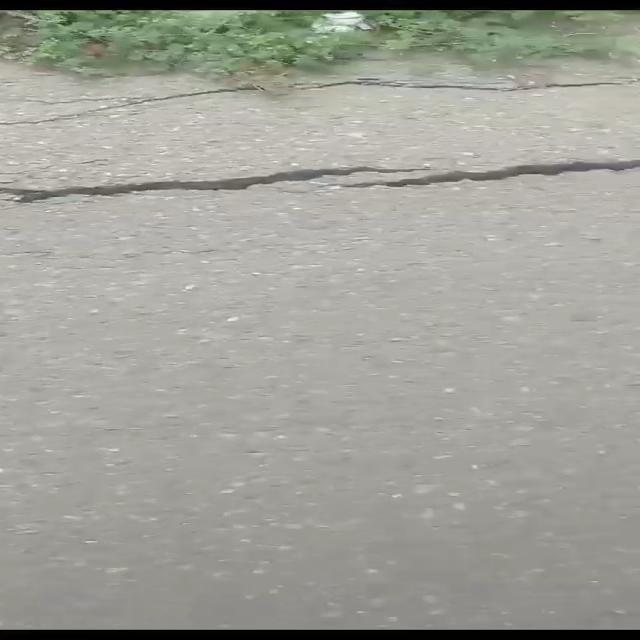Melintang: (0, 144, 640, 214)
